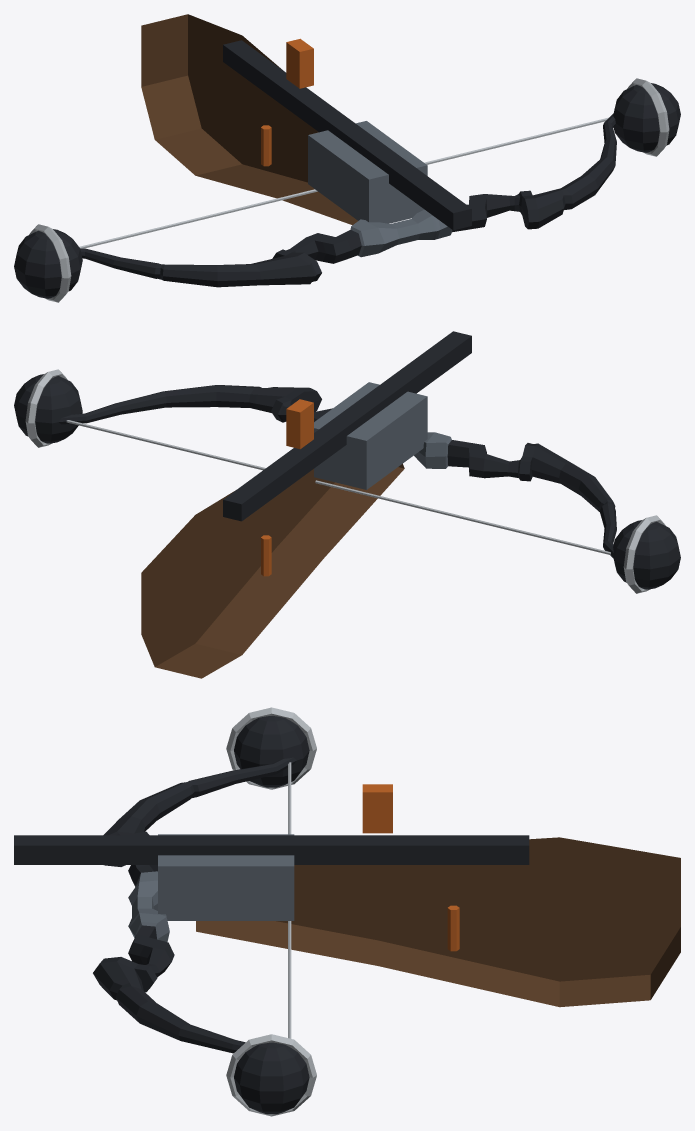
The model's file is bowcaster.glb.
3 views of the same model, one above another, from view 1: azimuth 30°, elevation 25°; view 2: azimuth 150°, elevation 25°; view 3: azimuth 270°, elevation 25° (orthographic). The views are drawn at different scales.
Parts seen in each view (by area): view 1: m; view 2: m; view 3: m.
Part boxes in pixels (x1,y1,x2,y2): m: (14, 14, 680, 302); m: (14, 331, 680, 678); m: (14, 707, 680, 1116).
Bounding box in the file's own units: 0.7883 × 0.2114 × 0.62.
